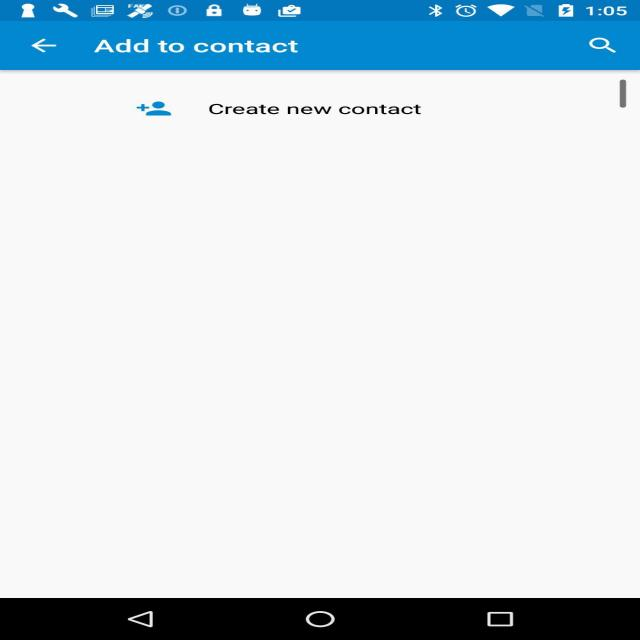text: (214, 76, 483, 210)
